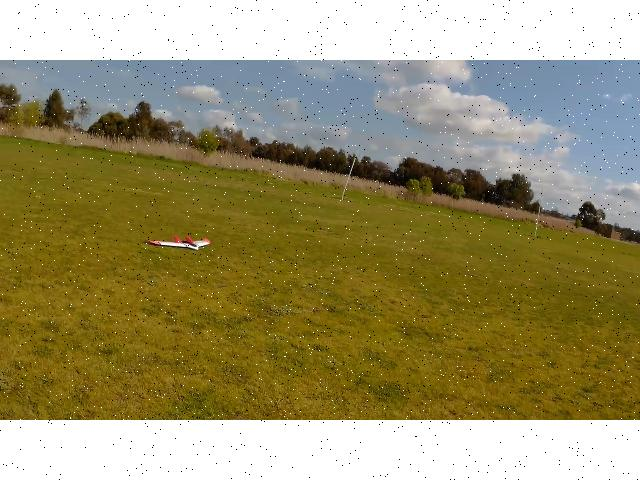Anti-Drone: (144, 238, 210, 250)
